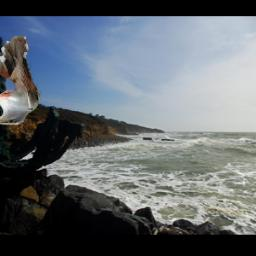Cuckoo: (0, 36, 40, 125)
